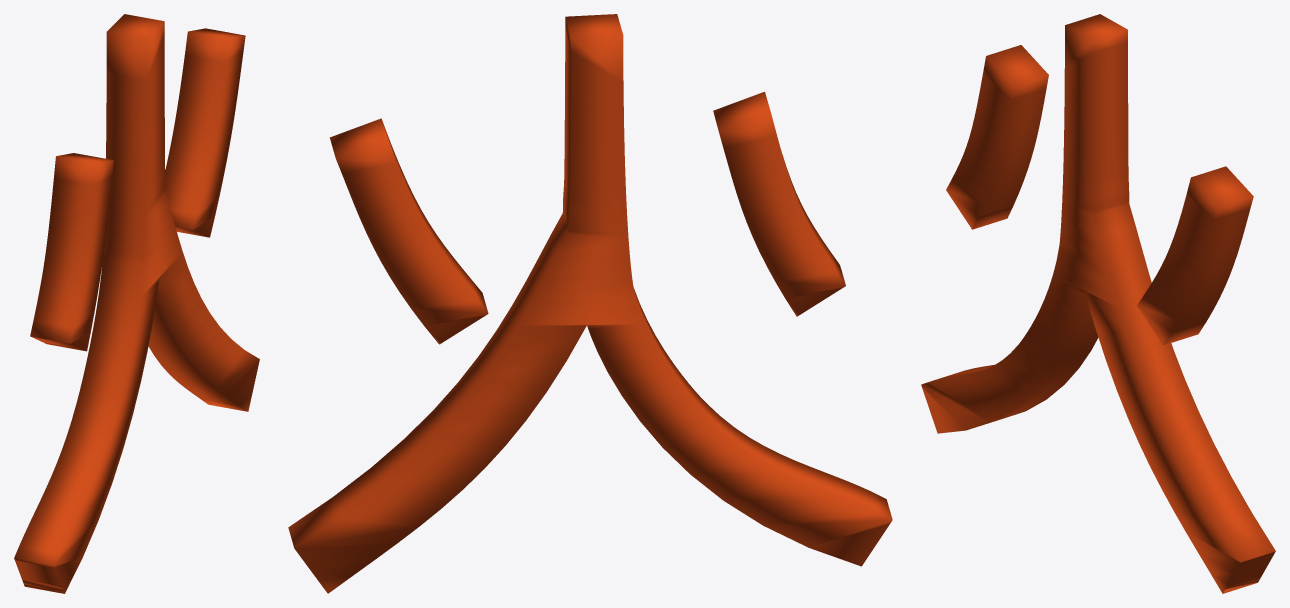
Rendered from fire_symbole.fbx.
3 renders of one model, left to right at view 1: azimuth 30°, elevation 25°; view 2: azimuth 150°, elevation 25°; view 3: azimuth 270°, elevation 25°, orthographic. The views are drawn at different scales.
Parts seen in each view (by area): view 1: Curve.001; view 2: Curve.001; view 3: Curve.001.
Part boxes in pixels (x1=…): Curve.001: x1=14, y1=14, x2=259, y2=593; Curve.001: x1=288, y1=14, x2=892, y2=593; Curve.001: x1=921, y1=14, x2=1275, y2=593.
Size of the model in its own units: 65.6 by 76.9 by 51.52.
